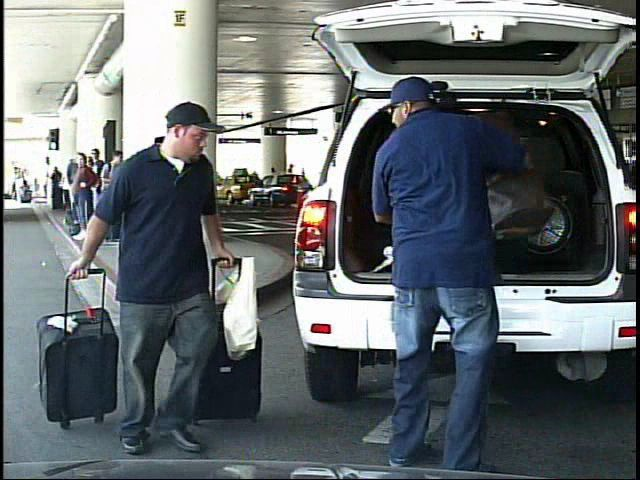person: (355, 74, 541, 476), (96, 112, 256, 453), (285, 162, 298, 198), (15, 172, 26, 204)
